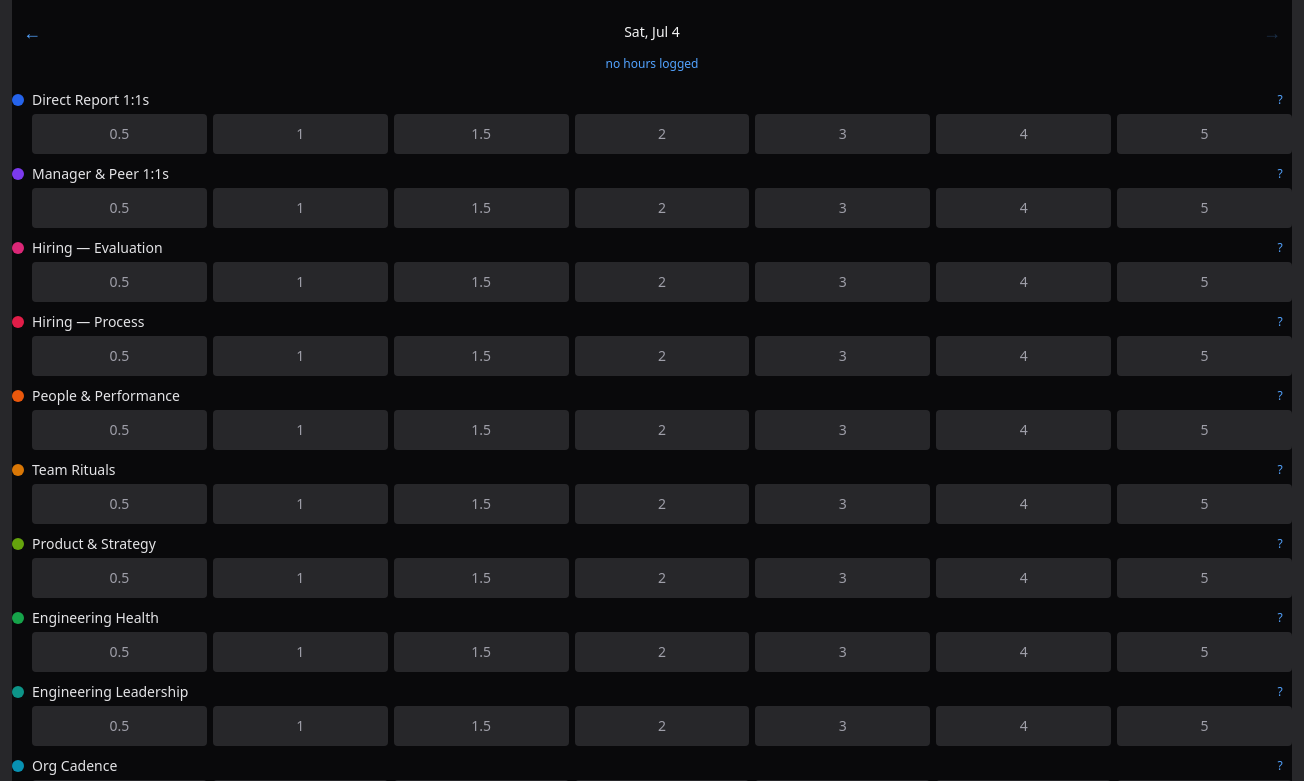
Scenario: LogView › navigates to previous day
The image size is (1304, 781).
Check: the text "Today" is not shown
Click the button named "Previous day".
click(32, 32)  # box [12,12,52,52]
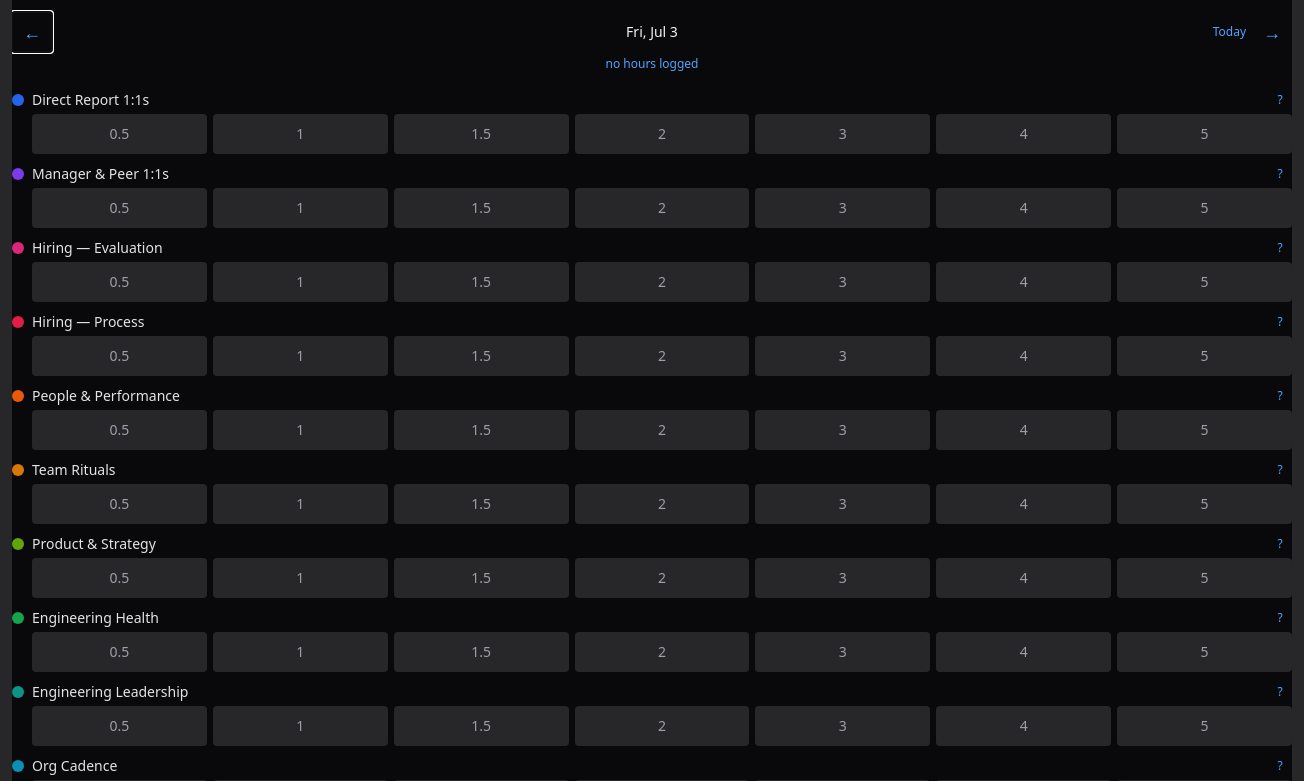
Check: the button "Today" is shown, box [1213,24,1246,40]
